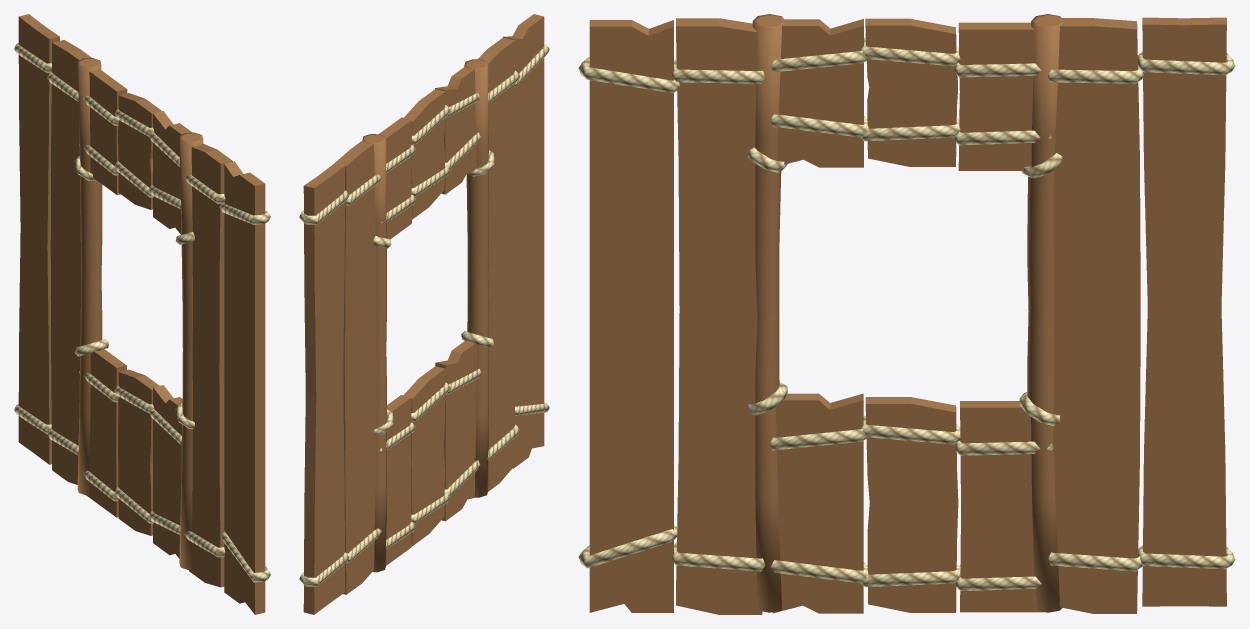
The model's file is H_WallWindow.fbx.
3 views of the same model, side by side, from view 1: azimuth 30°, elevation 25°; view 2: azimuth 150°, elevation 25°; view 3: azimuth 270°, elevation 25° (orthographic). The views are drawn at different scales.
Visible parts, largest first — view 1: H_WallWindow; view 2: H_WallWindow; view 3: H_WallWindow.
Part boxes in pixels (bbox=[...]): H_WallWindow: bbox=[14, 14, 270, 614]; H_WallWindow: bbox=[299, 14, 549, 614]; H_WallWindow: bbox=[578, 14, 1235, 614].
Bounding box in the file's own units: 23.47 × 300 × 303.
